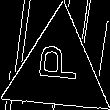P_W: (34, 49, 82, 90)
